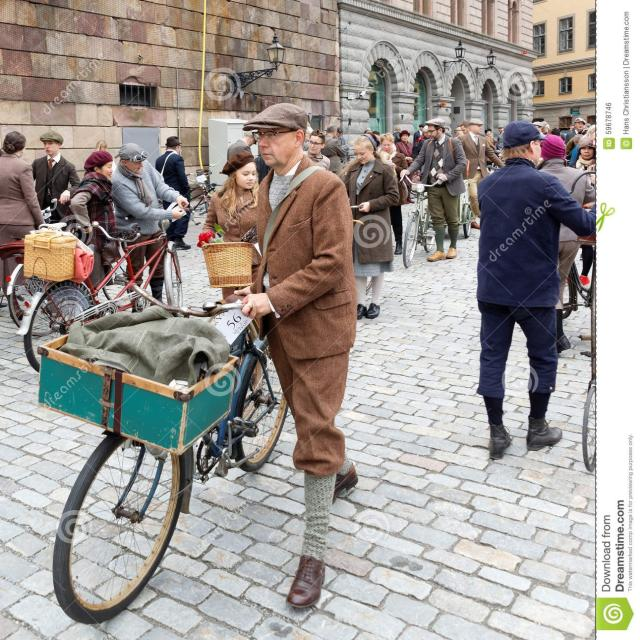body: (232, 101, 361, 610), (474, 120, 620, 462), (197, 150, 269, 399), (108, 142, 191, 313), (536, 131, 596, 357), (340, 129, 402, 320), (0, 130, 47, 326), (408, 116, 468, 264), (64, 150, 116, 298), (461, 118, 506, 230), (564, 136, 596, 291), (153, 135, 195, 253), (29, 130, 82, 223), (376, 133, 409, 255), (395, 129, 416, 205), (302, 128, 332, 170), (320, 123, 342, 180), (226, 126, 258, 162), (92, 139, 118, 176), (332, 125, 351, 165), (411, 124, 431, 162), (564, 117, 588, 145), (484, 127, 497, 167), (412, 124, 426, 146), (496, 126, 506, 151), (531, 121, 546, 137), (540, 120, 554, 136), (392, 125, 402, 145), (458, 120, 472, 134), (363, 128, 380, 135), (550, 126, 561, 136), (454, 126, 462, 139), (568, 123, 576, 133), (584, 122, 591, 128)
